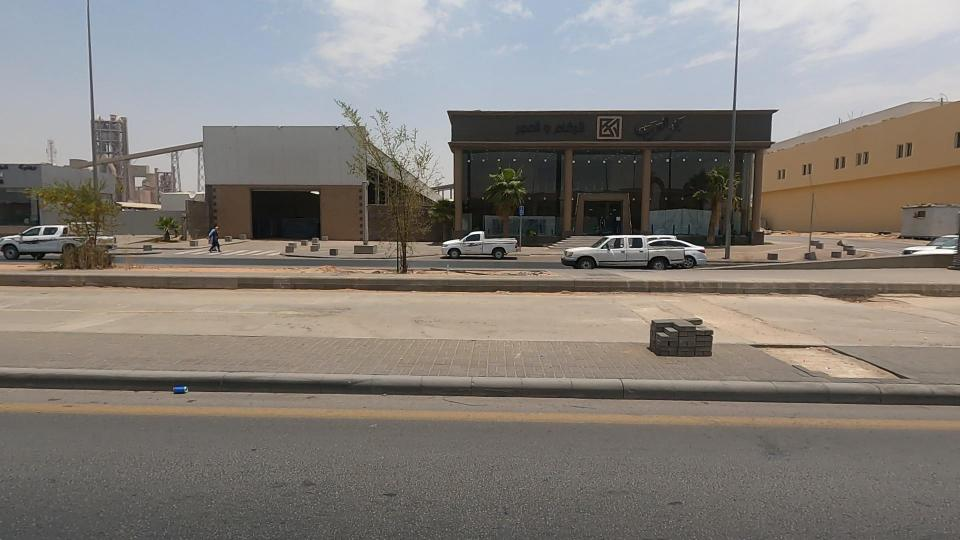GARBAGE: (113, 347, 254, 430)
